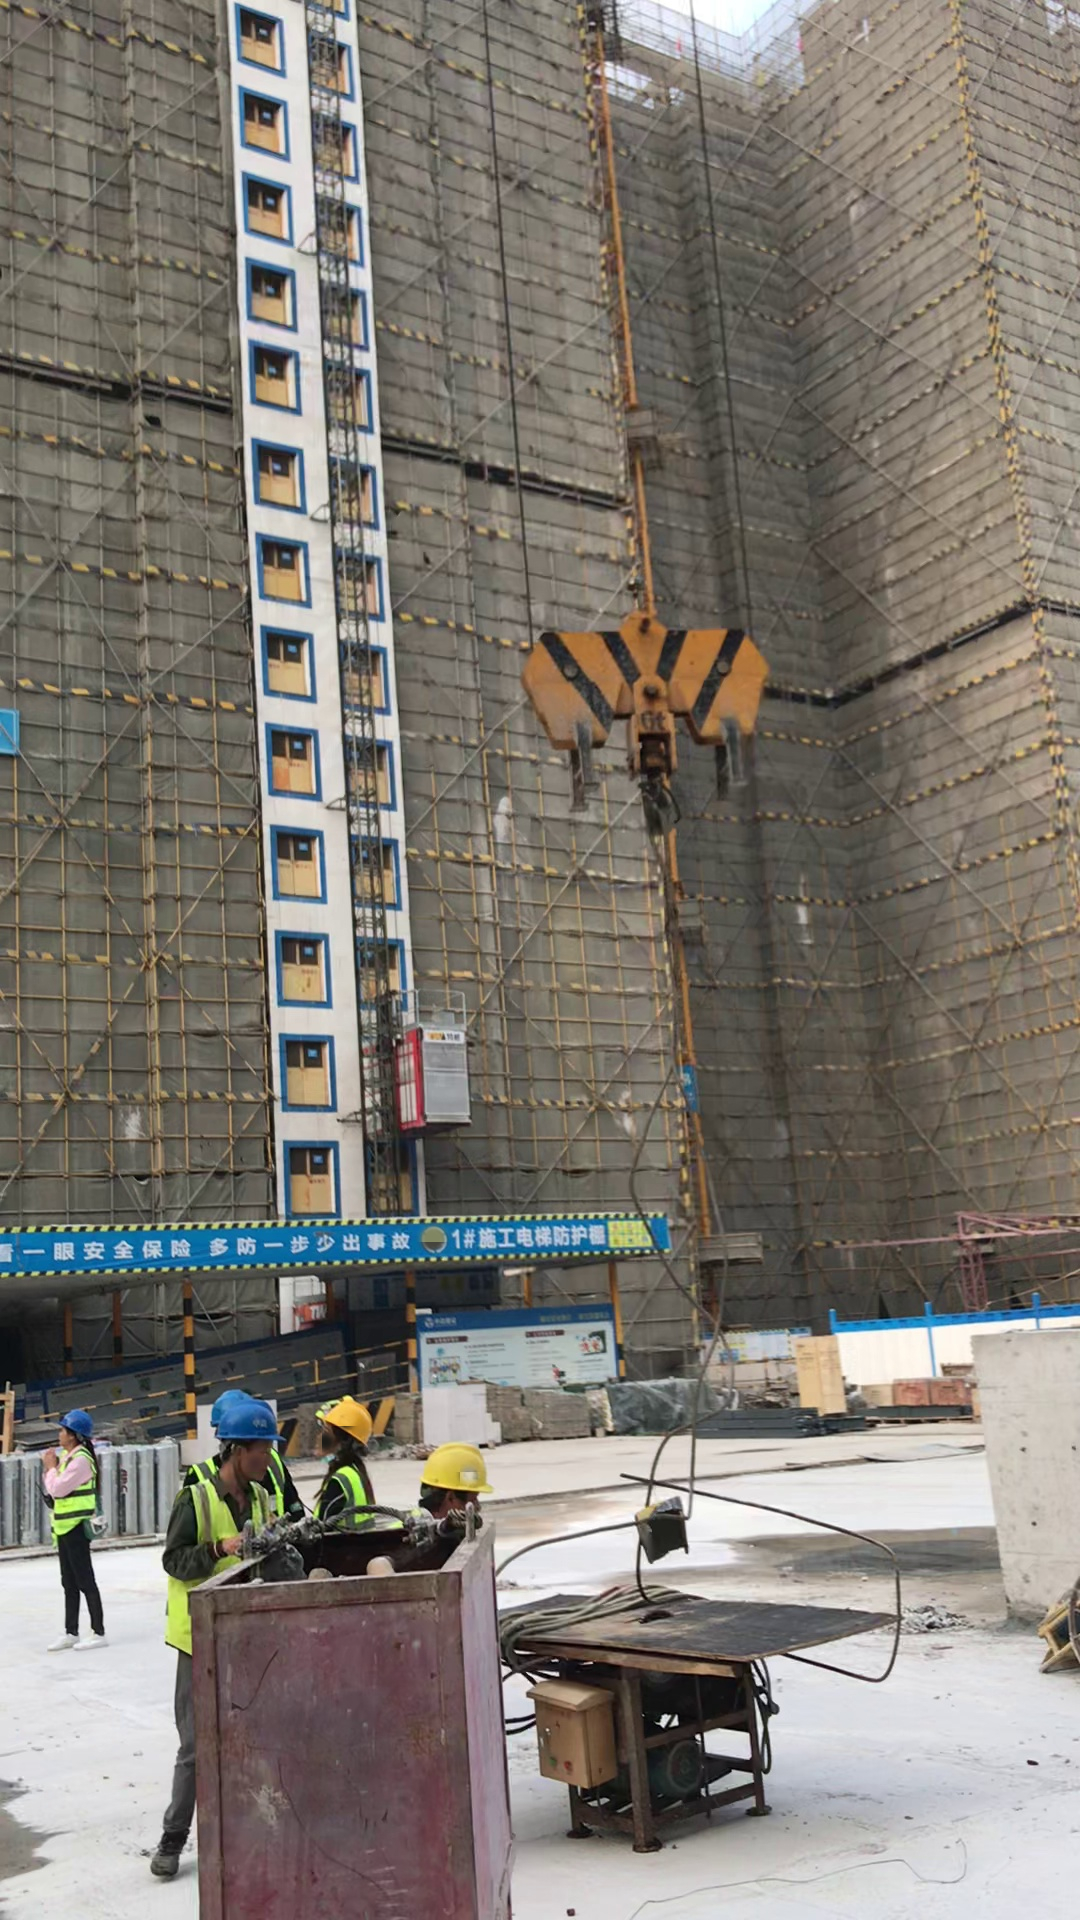brick: (419, 1385, 499, 1448)
cutter: (516, 1588, 897, 1861)
ebox: (530, 1680, 613, 1788)
helmet: (423, 1447, 495, 1494), (216, 1405, 283, 1444), (322, 1400, 374, 1449), (209, 1393, 250, 1425), (51, 1408, 92, 1438)
hook: (517, 609, 770, 841)
person: (162, 1404, 277, 1824), (37, 1406, 126, 1653), (173, 1391, 299, 1480), (308, 1400, 382, 1527), (415, 1452, 497, 1521)
slogan: (1, 1233, 414, 1261), (606, 1216, 655, 1246)
vest: (170, 1479, 269, 1657), (53, 1447, 96, 1539), (313, 1466, 373, 1525)
